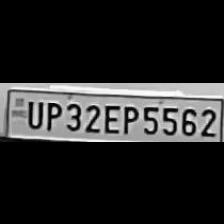2: (197, 104, 217, 138), (82, 100, 102, 132)
3: (61, 99, 80, 131)
5: (139, 102, 159, 134), (160, 103, 178, 135)
6: (178, 104, 198, 136)
E: (102, 100, 120, 134)
P: (42, 98, 62, 132), (120, 102, 138, 134)
U: (23, 97, 43, 129)
